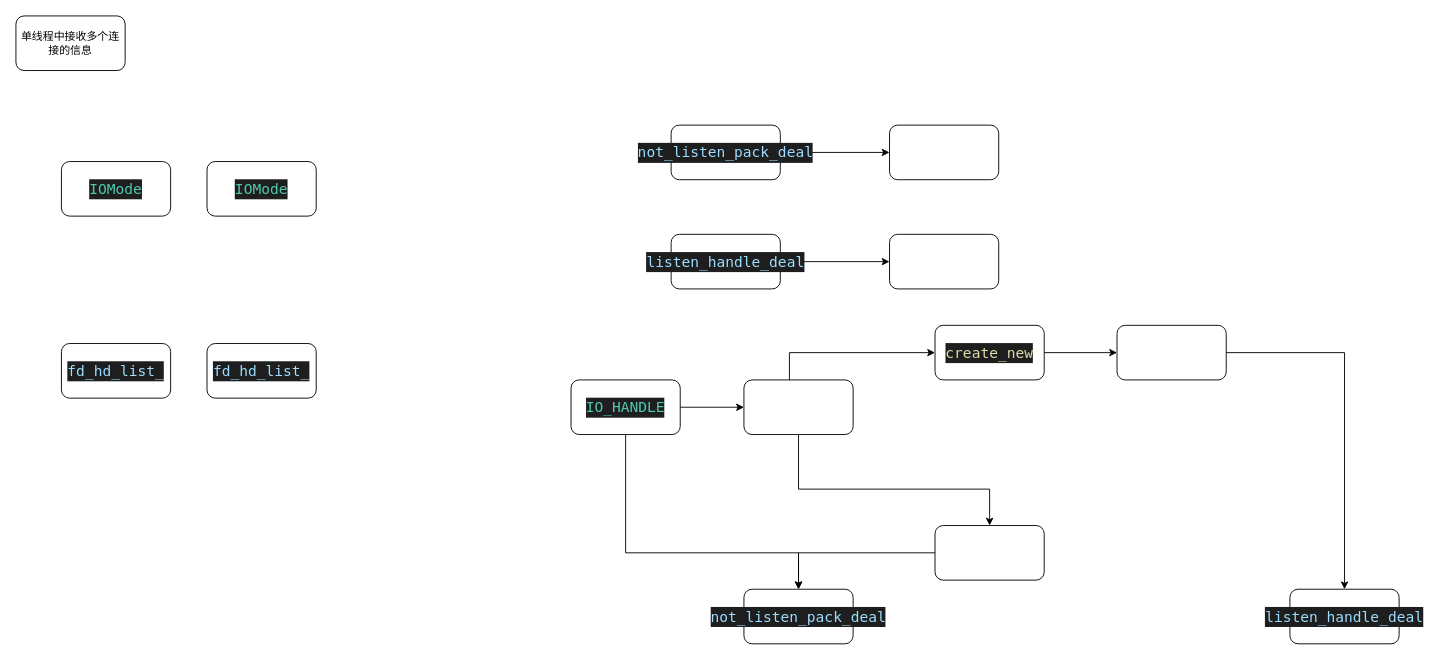
Some shapes in this 1439 by 660 pixel diagram are drawn without their labels. The shapes that lost their labels are listed below. From the top down, each one's centre as x and y in pixels, then its label:
At (x=944, y=152): "io_deal_handle".
At (x=944, y=261): "listen_deal_handle".
At (x=1171, y=352): "new_connect".
At (x=798, y=407): "isListen".
At (x=989, y=552): "package".
